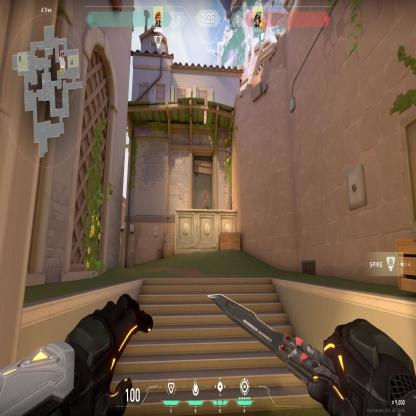enemy: (202, 187, 209, 210)
